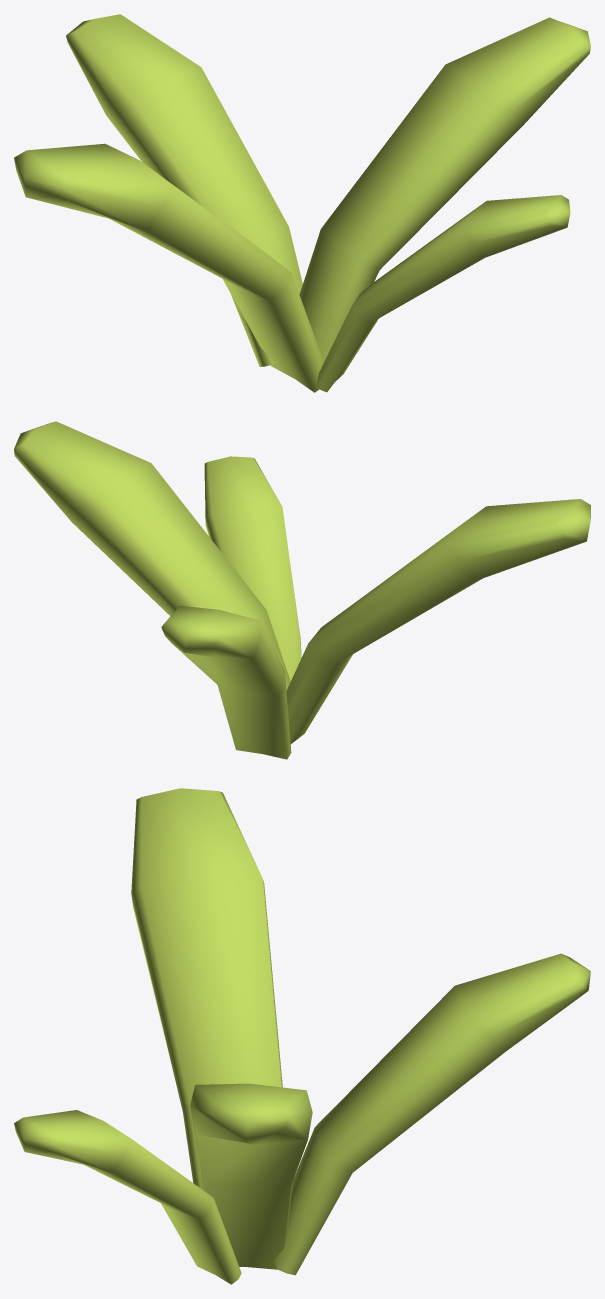
File: grass 01_toon_material_0.001.glb
3 renders of one model, top to bottom at view 1: azimuth 30°, elevation 25°; view 2: azimuth 150°, elevation 25°; view 3: azimuth 270°, elevation 25°, orthographic. The views are drawn at different scales.
Parts seen in each view (by area): view 1: grass 01_toon_material_0.001; view 2: grass 01_toon_material_0.001; view 3: grass 01_toon_material_0.001.
Part boxes in pixels (box(x1,y1,x2,y2)): grass 01_toon_material_0.001: box(14, 14, 590, 392); grass 01_toon_material_0.001: box(14, 421, 590, 759); grass 01_toon_material_0.001: box(14, 788, 590, 1284).
Size of the model in its own units: 0.639 by 0.3162 by 0.5042.
Materials: 1 (1 with a texture image).
